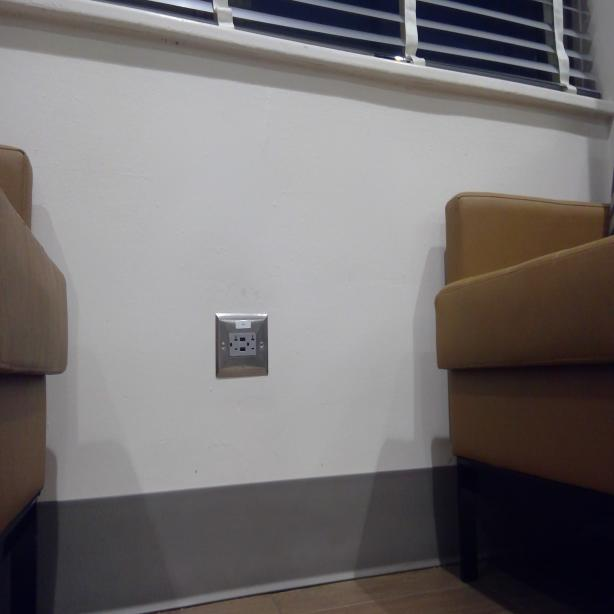typeb: (229, 331, 240, 356), (246, 333, 256, 357)
